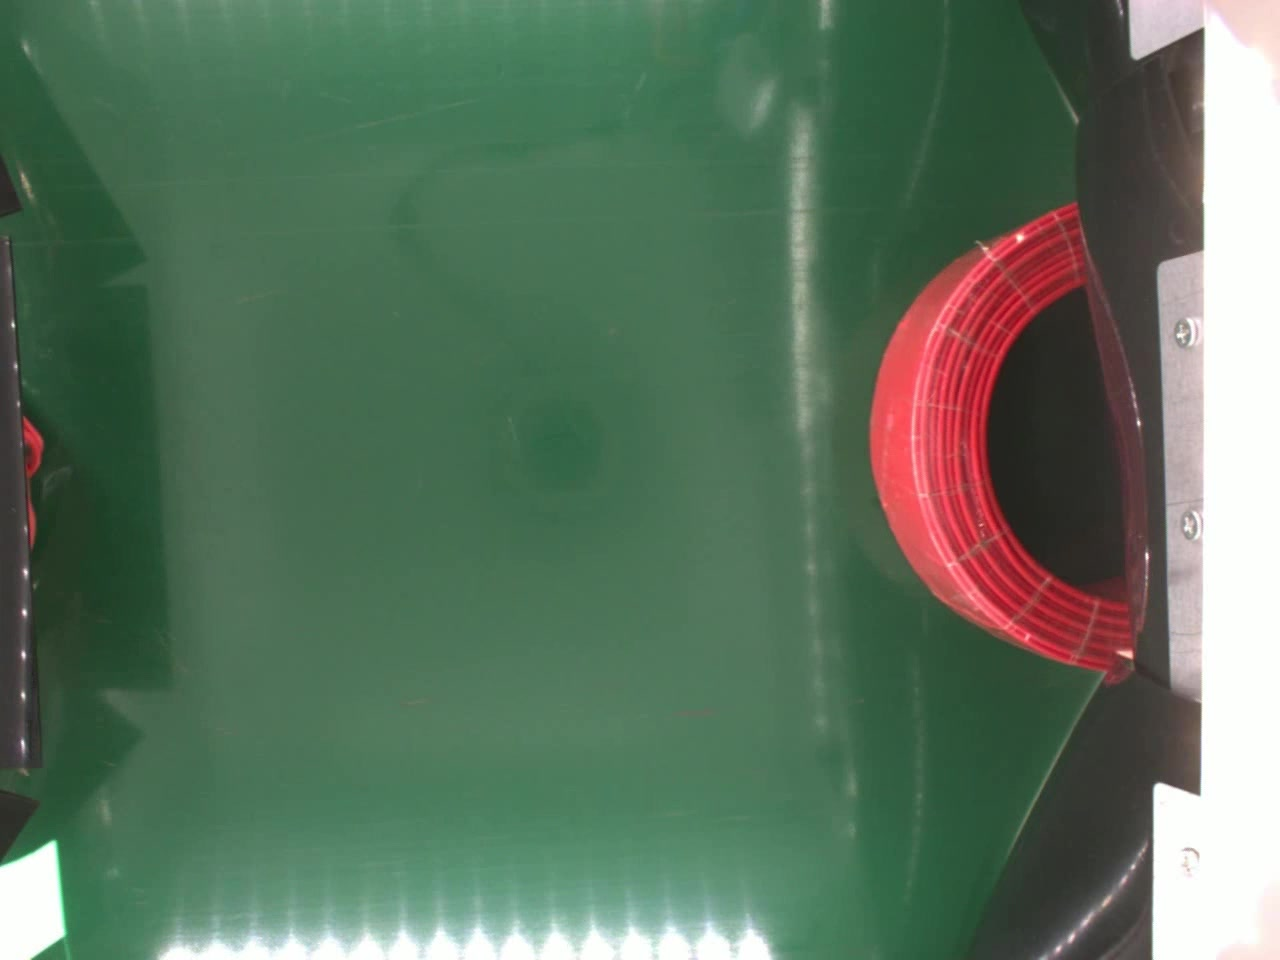red: (864, 196, 1132, 672)
